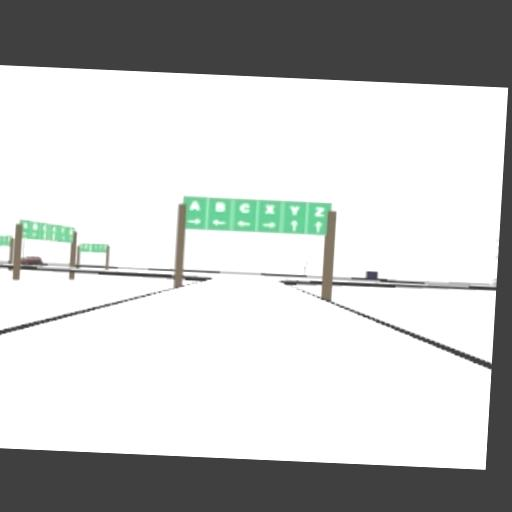A: (188, 201, 201, 211)
B: (215, 202, 226, 213)
C: (238, 203, 251, 214)
Left: (211, 219, 226, 227), (236, 221, 251, 228)
Right: (262, 222, 277, 229), (187, 219, 202, 226)
Straight: (314, 221, 323, 233), (291, 219, 298, 232)
X: (265, 204, 276, 215)
Y: (289, 205, 300, 216)
Z: (315, 207, 326, 217)
